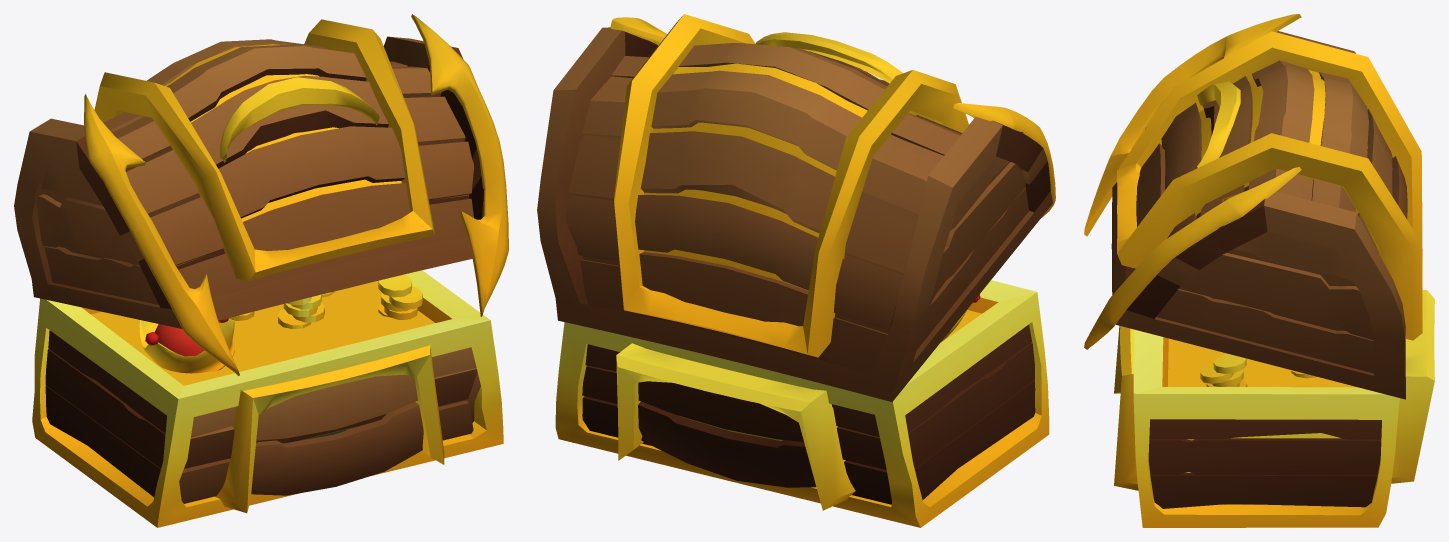
Rendered from Chest.fbx.
3 views of the same model, side by side, from view 1: azimuth 30°, elevation 25°; view 2: azimuth 150°, elevation 25°; view 3: azimuth 270°, elevation 25° (orthographic). The views are drawn at different scales.
Parts seen in each view (by area): view 1: Ocean Chest.001, Ocean Chest; view 2: Ocean Chest.001, Ocean Chest; view 3: Ocean Chest.001, Ocean Chest.
Part boxes in pixels (box(x1,y1,x2,y2)): Ocean Chest.001: box(14, 14, 508, 375); Ocean Chest: box(32, 270, 503, 527); Ocean Chest.001: box(537, 14, 1055, 401); Ocean Chest: box(555, 280, 1049, 527); Ocean Chest.001: box(1084, 14, 1422, 399); Ocean Chest: box(1114, 290, 1434, 527).
Bounding box in the file's own units: 106 × 102 × 88.32.
